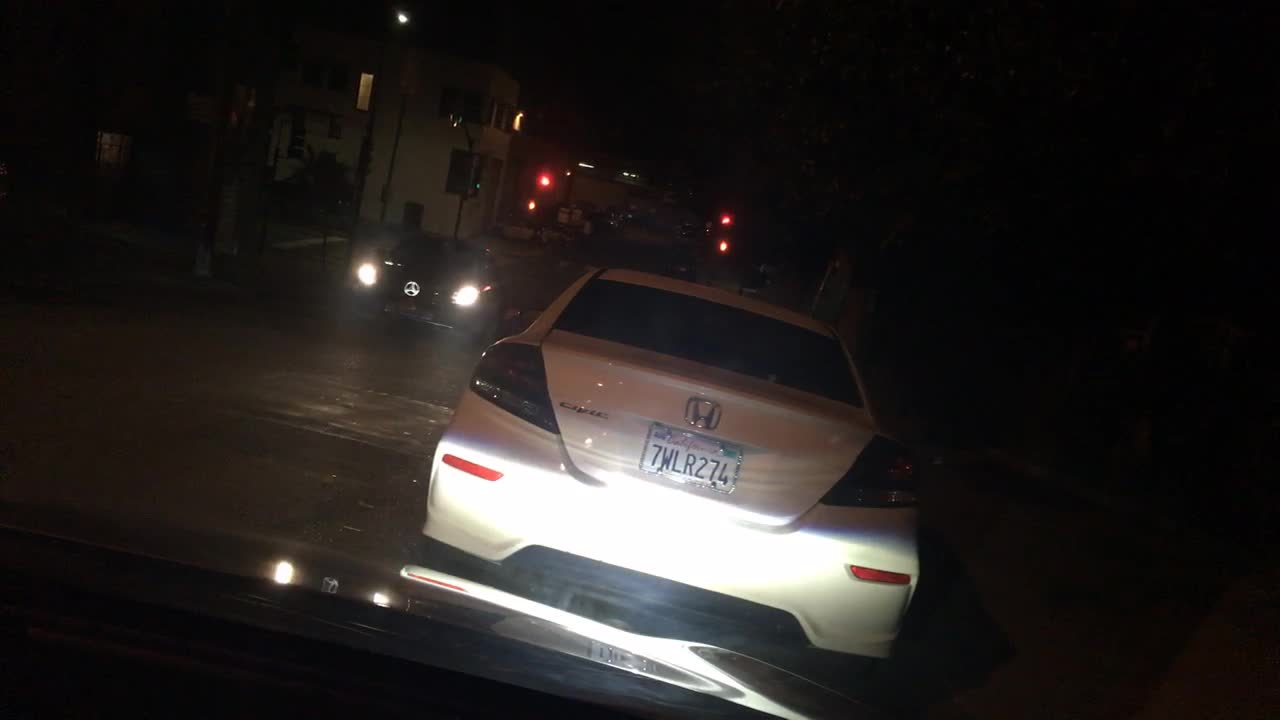car: (420, 268, 928, 703), (355, 235, 506, 343), (586, 205, 619, 236), (679, 218, 700, 240)
person: (530, 206, 544, 239)
traffic light: (473, 156, 483, 200), (539, 175, 549, 187), (721, 215, 730, 225)
traffic sign: (401, 51, 426, 101), (356, 72, 373, 112)
